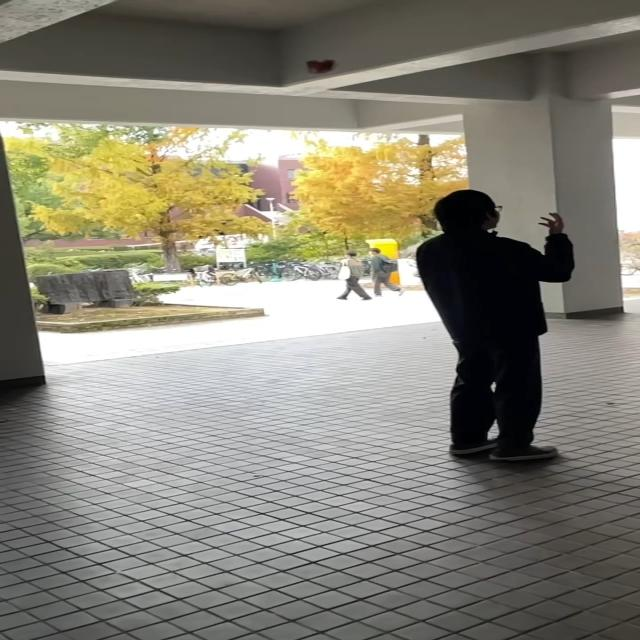paper: (304, 57, 336, 77)
